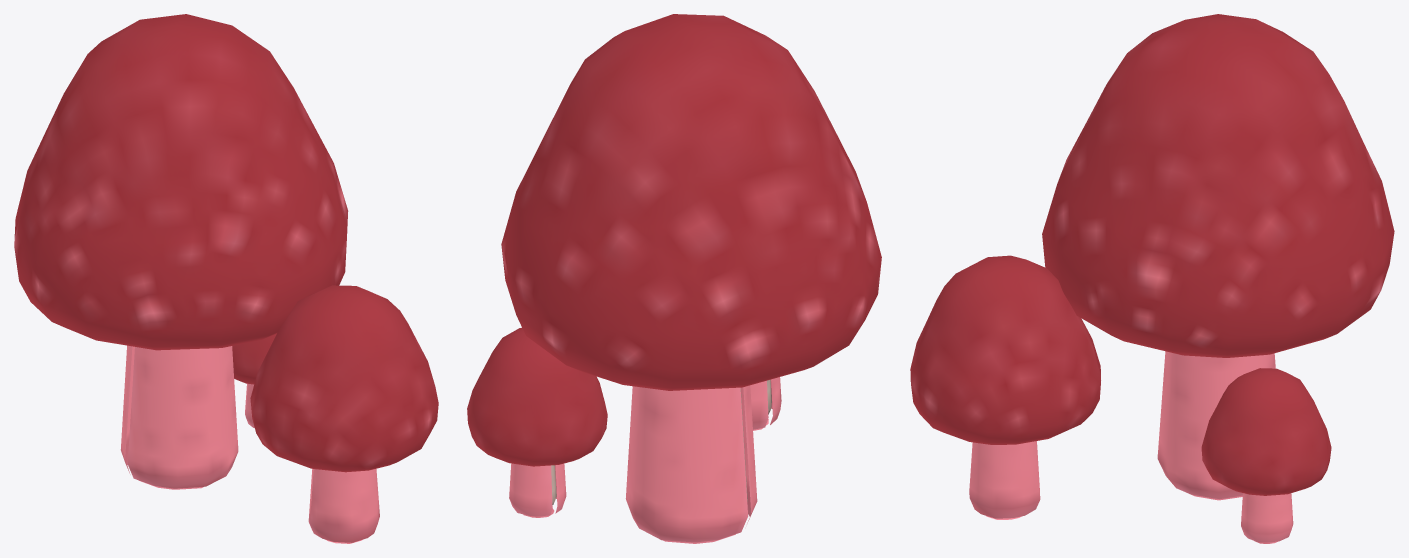
The model's file is houba_muchomurka_svitici.glb.
The picture shows the model from 3 angles, left to right: view 1: azimuth 30°, elevation 25°; view 2: azimuth 150°, elevation 25°; view 3: azimuth 270°, elevation 25°; orthographic projection. The views are drawn at different scales.
Visible parts, largest first — view 1: noc; view 2: noc; view 3: noc.
Part boxes in pixels (x1,y1,x2,y2): noc: (14, 14, 438, 543); noc: (467, 14, 881, 543); noc: (910, 14, 1394, 543).
Bounding box in the file's own units: 0.085 × 0.1131 × 0.1094.
Materials: 2 (2 with a texture image).
